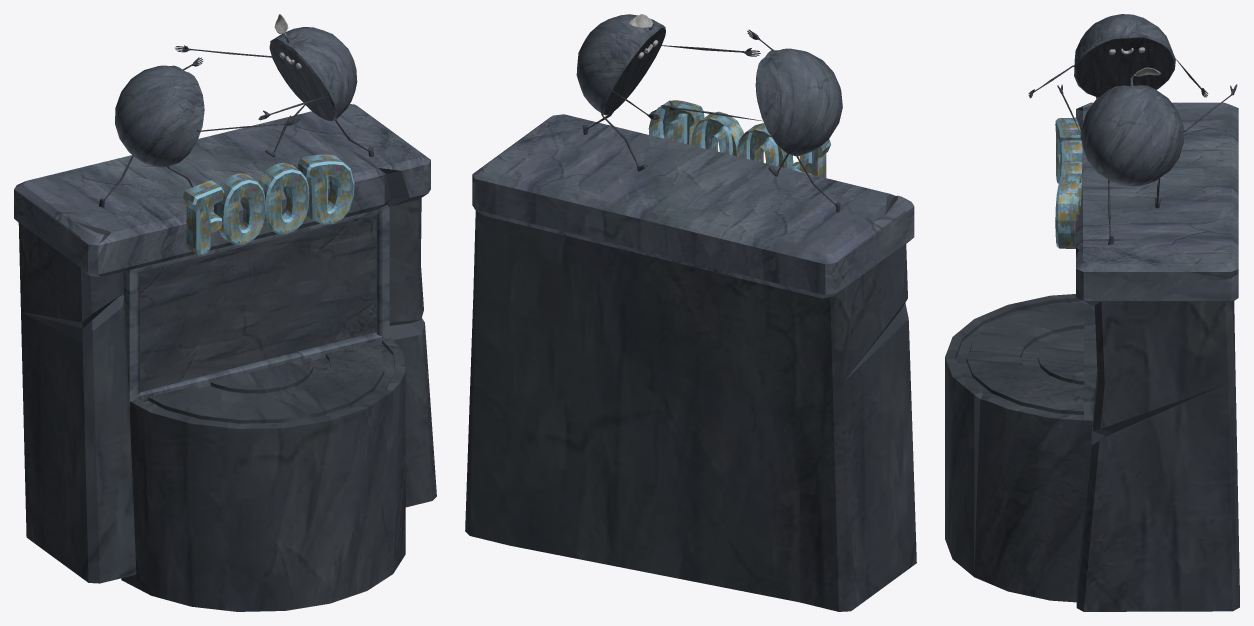
The model's file is pm-stand-food-02.glb.
The picture shows the model from 3 angles, left to right: view 1: azimuth 30°, elevation 25°; view 2: azimuth 150°, elevation 25°; view 3: azimuth 270°, elevation 25°; orthographic projection. The views are drawn at different scales.
Parts seen in each view (by area): view 1: StandFood02; view 2: StandFood02; view 3: StandFood02.
Boxes of the visible parts, x1=… form: StandFood02: x1=14, y1=14, x2=436, y2=611; StandFood02: x1=465, y1=14, x2=916, y2=611; StandFood02: x1=945, y1=14, x2=1239, y2=611.
Size of what is drawn, in the model's own units: 11.13 by 15.18 by 8.14.
Materials: 1 (1 with a texture image).
